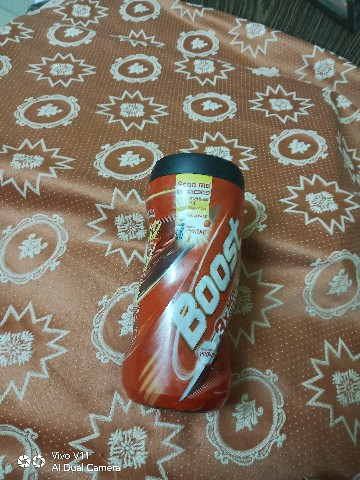boost big: (108, 120, 253, 432)
